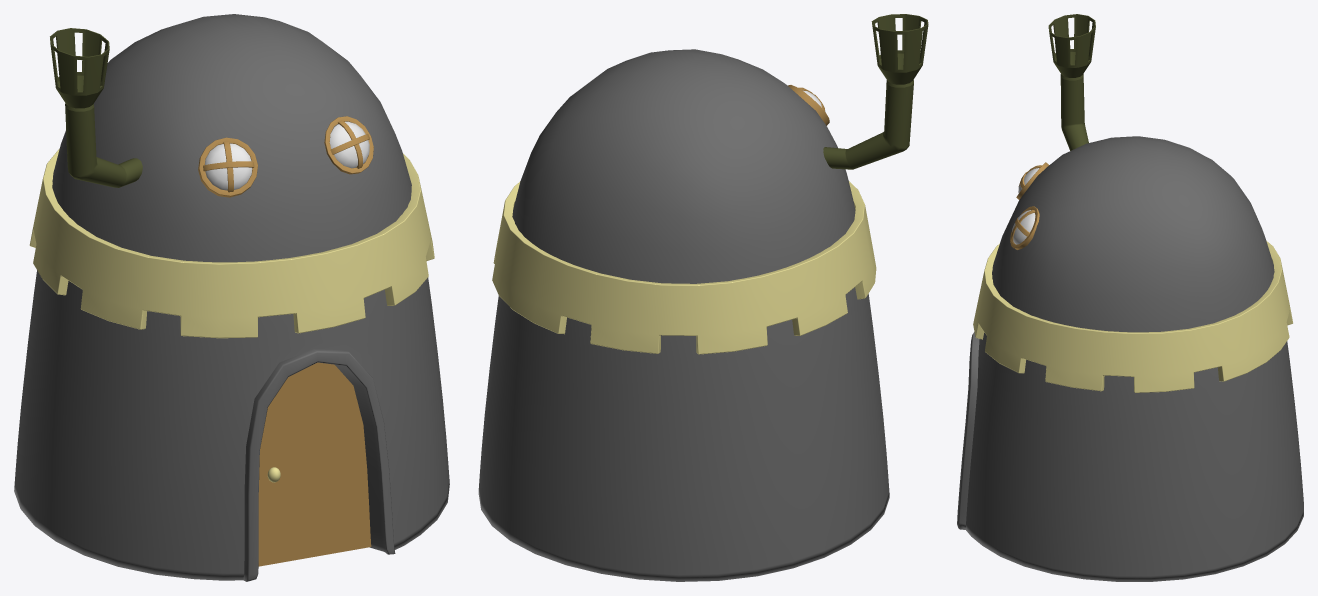
Rendered from SP_Aircraft01_Room02.fbx.
The picture shows the model from 3 angles, left to right: view 1: azimuth 30°, elevation 25°; view 2: azimuth 150°, elevation 25°; view 3: azimuth 270°, elevation 25°; orthographic projection. The views are drawn at different scales.
Parts seen in each view (by area): view 1: SP_Aircraft01_Room02; view 2: SP_Aircraft01_Room02; view 3: SP_Aircraft01_Room02.
Boxes of the visible parts, x1,y1,x2,y2 form: SP_Aircraft01_Room02: (14,14,449,581); SP_Aircraft01_Room02: (478,14,928,581); SP_Aircraft01_Room02: (957,14,1303,581).
Size of the model in its own units: 6.53 by 8.15 by 6.15.
